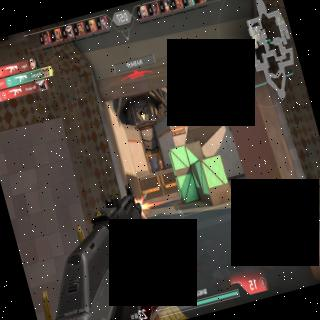ENEMY-BODY: (159, 160, 164, 170)
ENEMY-HEAD: (160, 160, 162, 163)
